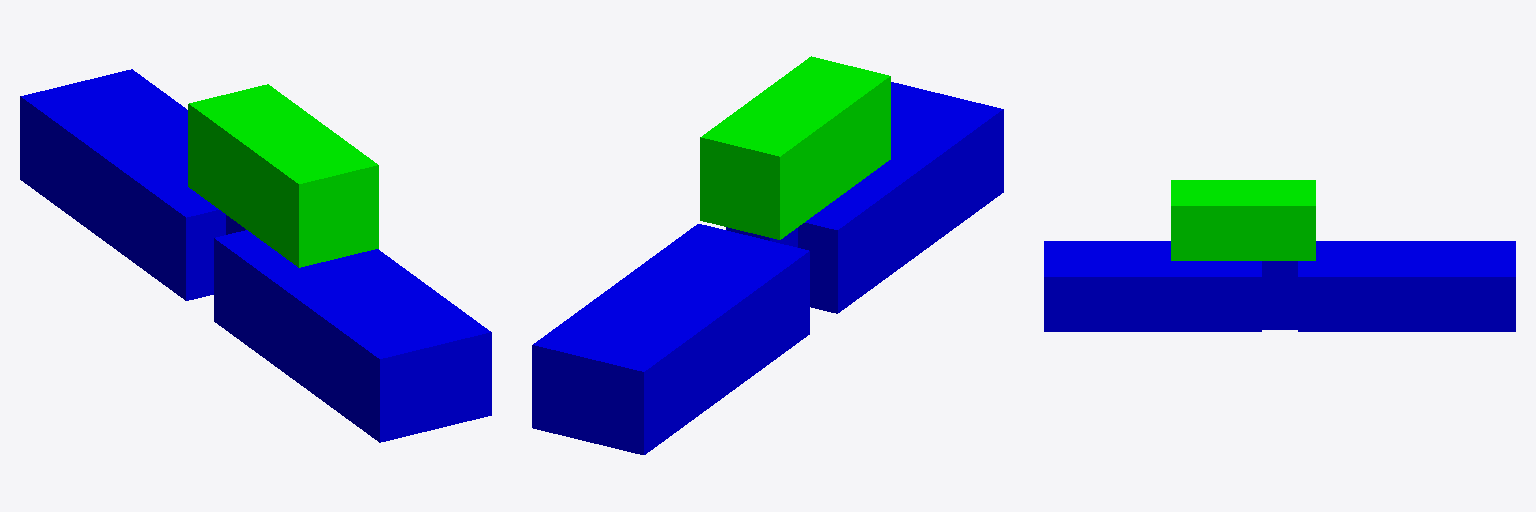
The robot description file, URDF, robot "robot":
<robot name = "robot">
    <link name="root">
        <inertial>
            <origin xyz="0.0 0.0 1.5" rpy="0 0 0"/>
            <mass value="1" />
            <inertia ixx="100" ixy="0" ixz="0" iyy="100" iyz="0" izz="100" />
        </inertial>
        <visual>
            <origin xyz="0.0 0.0 1.5" rpy="0 0 0"/>
            <geometry>
                <box size="0 0 0.0001" />
            </geometry>
            <material name="Green">
                <color rgba="0 1.0 0.0 1.0"/>
            </material>
        </visual>
        <collision>
            <origin xyz="0.0 0.0 1.5" rpy="0 0 0"/>
            <geometry>
                <box size="0 0 0.0001" />
            </geometry>
        </collision>
    </link>
    <joint name="root_000" type="revolute">
       <parent link="root"/>
       <child  link="000"/>
       <origin rpy="0 0 0" xyz="0.0 0.0 1.5" />
     <axis xyz="1 0 0"/>
       <limit effort="0.0" lower="-3.14159" upper="3.14159" velocity="0.0"/>
    </joint>
    <link name="000">
        <inertial>
            <origin xyz="0.0 0.3 0.0" rpy="0 0 0"/>
            <mass value="1" />
            <inertia ixx="100" ixy="0" ixz="0" iyy="100" iyz="0" izz="100" />
        </inertial>
        <visual>
            <origin xyz="0.0 0.3 0.0" rpy="0 0 0"/>
            <geometry>
                <box size="0.5 0.6 0.5" />
            </geometry>
            <material name="Green">
                <color rgba="0 1.0 0.0 1.0"/>
            </material>
        </visual>
        <collision>
            <origin xyz="0.0 0.3 0.0" rpy="0 0 0"/>
            <geometry>
                <box size="0.5 0.6 0.5" />
            </geometry>
        </collision>
    </link>
    <joint name="000_010" type="revolute">
       <parent link="000"/>
       <child  link="010"/>
       <origin rpy="0 0 0" xyz="0.0 0.6 -0.0" />
     <axis xyz="0 1 0"/>
       <limit effort="0.0" lower="-3.14159" upper="3.14159" velocity="0.0"/>
    </joint>
    <link name="010">
        <inertial>
            <origin xyz="0.0 0.3 -0.0" rpy="0 0 0"/>
            <mass value="1" />
            <inertia ixx="100" ixy="0" ixz="0" iyy="100" iyz="0" izz="100" />
        </inertial>
        <visual>
            <origin xyz="0.0 0.3 -0.0" rpy="0 0 0"/>
            <geometry>
                <box size="0.5 0.6 0.5" />
            </geometry>
            <material name="Green">
                <color rgba="0 1.0 0.0 1.0"/>
            </material>
        </visual>
        <collision>
            <origin xyz="0.0 0.3 -0.0" rpy="0 0 0"/>
            <geometry>
                <box size="0.5 0.6 0.5" />
            </geometry>
        </collision>
    </link>
    <joint name="010_010-100" type="revolute">
       <parent link="010"/>
       <child  link="010-100"/>
       <origin rpy="0 0 0" xyz="0.0 0.3 -0.25" />
     <axis xyz="0 0 1"/>
       <limit effort="0.0" lower="-3.14159" upper="3.14159" velocity="0.0"/>
    </joint>
    <link name="010-100">
        <inertial>
            <origin xyz="0.0 0.0 -0.35" rpy="0 0 0"/>
            <mass value="1" />
            <inertia ixx="100" ixy="0" ixz="0" iyy="100" iyz="0" izz="100" />
        </inertial>
        <visual>
            <origin xyz="0.0 0.0 -0.35" rpy="0 0 0"/>
            <geometry>
                <box size="0.2 0.3 0.7" />
            </geometry>
            <material name="Blue">
                <color rgba="0 0.0 1.0 1.0"/>
            </material>
        </visual>
        <collision>
            <origin xyz="0.0 0.0 -0.35" rpy="0 0 0"/>
            <geometry>
                <box size="0.2 0.3 0.7" />
            </geometry>
        </collision>
    </link>
    <joint name="010-100_010-100-200" type="revolute">
       <parent link="010-100"/>
       <child  link="010-100-200"/>
       <origin rpy="0 0 0" xyz="0.0 0.15 -0.35" />
     <axis xyz="0 1 0"/>
       <limit effort="0.0" lower="-3.14159" upper="3.14159" velocity="0.0"/>
    </joint>
    <link name="010-100-200">
        <inertial>
            <origin xyz="0.0 0.3 -0.0" rpy="0 0 0"/>
            <mass value="1" />
            <inertia ixx="100" ixy="0" ixz="0" iyy="100" iyz="0" izz="100" />
        </inertial>
        <visual>
            <origin xyz="0.0 0.3 -0.0" rpy="0 0 0"/>
            <geometry>
                <box size="0.7 0.6 0.5" />
            </geometry>
            <material name="Blue">
                <color rgba="0 0.0 1.0 1.0"/>
            </material>
        </visual>
        <collision>
            <origin xyz="0.0 0.3 -0.0" rpy="0 0 0"/>
            <geometry>
                <box size="0.7 0.6 0.5" />
            </geometry>
        </collision>
    </link>
    <joint name="010-100-200_010-100-210" type="revolute">
       <parent link="010-100-200"/>
       <child  link="010-100-210"/>
       <origin rpy="0 0 0" xyz="0.0 0.6 -0.0" />
     <axis xyz="0 1 0"/>
       <limit effort="0.0" lower="-3.14159" upper="3.14159" velocity="0.0"/>
    </joint>
    <link name="010-100-210">
        <inertial>
            <origin xyz="0.0 0.3 -0.0" rpy="0 0 0"/>
            <mass value="1" />
            <inertia ixx="100" ixy="0" ixz="0" iyy="100" iyz="0" izz="100" />
        </inertial>
        <visual>
            <origin xyz="0.0 0.3 -0.0" rpy="0 0 0"/>
            <geometry>
                <box size="0.7 0.6 0.5" />
            </geometry>
            <material name="Blue">
                <color rgba="0 0.0 1.0 1.0"/>
            </material>
        </visual>
        <collision>
            <origin xyz="0.0 0.3 -0.0" rpy="0 0 0"/>
            <geometry>
                <box size="0.7 0.6 0.5" />
            </geometry>
        </collision>
    </link>
    <joint name="010-100-210_010-100-220" type="revolute">
       <parent link="010-100-210"/>
       <child  link="010-100-220"/>
       <origin rpy="0 0 0" xyz="0.0 0.6 -0.0" />
     <axis xyz="0 1 0"/>
       <limit effort="0.0" lower="-3.14159" upper="3.14159" velocity="0.0"/>
    </joint>
    <link name="010-100-220">
        <inertial>
            <origin xyz="0.0 0.3 -0.0" rpy="0 0 0"/>
            <mass value="1" />
            <inertia ixx="100" ixy="0" ixz="0" iyy="100" iyz="0" izz="100" />
        </inertial>
        <visual>
            <origin xyz="0.0 0.3 -0.0" rpy="0 0 0"/>
            <geometry>
                <box size="0.7 0.6 0.5" />
            </geometry>
            <material name="Blue">
                <color rgba="0 0.0 1.0 1.0"/>
            </material>
        </visual>
        <collision>
            <origin xyz="0.0 0.3 -0.0" rpy="0 0 0"/>
            <geometry>
                <box size="0.7 0.6 0.5" />
            </geometry>
        </collision>
    </link>
    <joint name="010-100_010-100-201" type="revolute">
       <parent link="010-100"/>
       <child  link="010-100-201"/>
       <origin rpy="0 0 0" xyz="0.0 -0.15 -0.35" />
     <axis xyz="0 1 0"/>
       <limit effort="0.0" lower="-3.14159" upper="3.14159" velocity="0.0"/>
    </joint>
    <link name="010-100-201">
        <inertial>
            <origin xyz="0.0 -0.3 -0.0" rpy="0 0 0"/>
            <mass value="1" />
            <inertia ixx="100" ixy="0" ixz="0" iyy="100" iyz="0" izz="100" />
        </inertial>
        <visual>
            <origin xyz="0.0 -0.3 -0.0" rpy="0 0 0"/>
            <geometry>
                <box size="0.7 0.6 0.5" />
            </geometry>
            <material name="Blue">
                <color rgba="0 0.0 1.0 1.0"/>
            </material>
        </visual>
        <collision>
            <origin xyz="0.0 -0.3 -0.0" rpy="0 0 0"/>
            <geometry>
                <box size="0.7 0.6 0.5" />
            </geometry>
        </collision>
    </link>
    <joint name="010-100-201_010-100-211" type="revolute">
       <parent link="010-100-201"/>
       <child  link="010-100-211"/>
       <origin rpy="0 0 0" xyz="0.0 -0.6 -0.0" />
     <axis xyz="0 1 0"/>
       <limit effort="0.0" lower="-3.14159" upper="3.14159" velocity="0.0"/>
    </joint>
    <link name="010-100-211">
        <inertial>
            <origin xyz="0.0 -0.3 -0.0" rpy="0 0 0"/>
            <mass value="1" />
            <inertia ixx="100" ixy="0" ixz="0" iyy="100" iyz="0" izz="100" />
        </inertial>
        <visual>
            <origin xyz="0.0 -0.3 -0.0" rpy="0 0 0"/>
            <geometry>
                <box size="0.7 0.6 0.5" />
            </geometry>
            <material name="Blue">
                <color rgba="0 0.0 1.0 1.0"/>
            </material>
        </visual>
        <collision>
            <origin xyz="0.0 -0.3 -0.0" rpy="0 0 0"/>
            <geometry>
                <box size="0.7 0.6 0.5" />
            </geometry>
        </collision>
    </link>
    <joint name="010-100-211_010-100-221" type="revolute">
       <parent link="010-100-211"/>
       <child  link="010-100-221"/>
       <origin rpy="0 0 0" xyz="0.0 -0.6 -0.0" />
     <axis xyz="0 1 0"/>
       <limit effort="0.0" lower="-3.14159" upper="3.14159" velocity="0.0"/>
    </joint>
    <link name="010-100-221">
        <inertial>
            <origin xyz="0.0 -0.3 -0.0" rpy="0 0 0"/>
            <mass value="1" />
            <inertia ixx="100" ixy="0" ixz="0" iyy="100" iyz="0" izz="100" />
        </inertial>
        <visual>
            <origin xyz="0.0 -0.3 -0.0" rpy="0 0 0"/>
            <geometry>
                <box size="0.7 0.6 0.5" />
            </geometry>
            <material name="Blue">
                <color rgba="0 0.0 1.0 1.0"/>
            </material>
        </visual>
        <collision>
            <origin xyz="0.0 -0.3 -0.0" rpy="0 0 0"/>
            <geometry>
                <box size="0.7 0.6 0.5" />
            </geometry>
        </collision>
    </link>
</robot>

--- What the picture shows (computed from the rendered views, not written in the file) ---
Views: 3 orthographic renders of the robot side by side, from view 1: azimuth 30°, elevation 25°; view 2: azimuth 150°, elevation 25°; view 3: azimuth 270°, elevation 25°.
Robot: robot — 10 links, 9 joints (9 revolute); root link root; default pose: all joints at 0.
Visible links, largest first — view 1: [phone redacted] (×6), 000, 010; view 2: [phone redacted] (×6), 010, 000; view 3: [phone redacted] (×6), 000, 010, 010-100.
Boxes of the visible links, bbox=[...] form: [phone redacted] (×6): bbox=[20, 69, 491, 442]; 000: bbox=[244, 125, 378, 267]; 010: bbox=[188, 84, 322, 226]; [phone redacted] (×6): bbox=[532, 82, 1003, 454]; 010: bbox=[700, 97, 835, 239]; 000: bbox=[756, 56, 890, 198]; [phone redacted] (×6): bbox=[1044, 241, 1515, 331]; 000: bbox=[1171, 180, 1243, 260]; 010: bbox=[1244, 180, 1315, 260]; 010-100: bbox=[1262, 261, 1297, 329].
Size in the robot's own frame: 0.7 by 3.9 by 1.2 metres.
Geometry: primitives only (box / cylinder / sphere), no mesh files.
